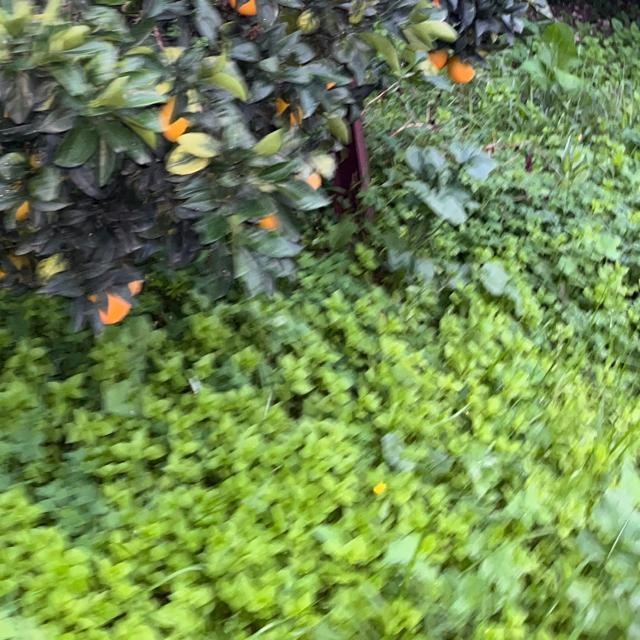orange: (159, 96, 193, 140), (94, 291, 130, 323), (0, 252, 33, 282), (274, 95, 306, 125), (447, 57, 475, 83), (256, 210, 282, 232), (427, 43, 447, 71), (12, 199, 32, 219), (126, 276, 146, 296), (230, 0, 258, 13)
